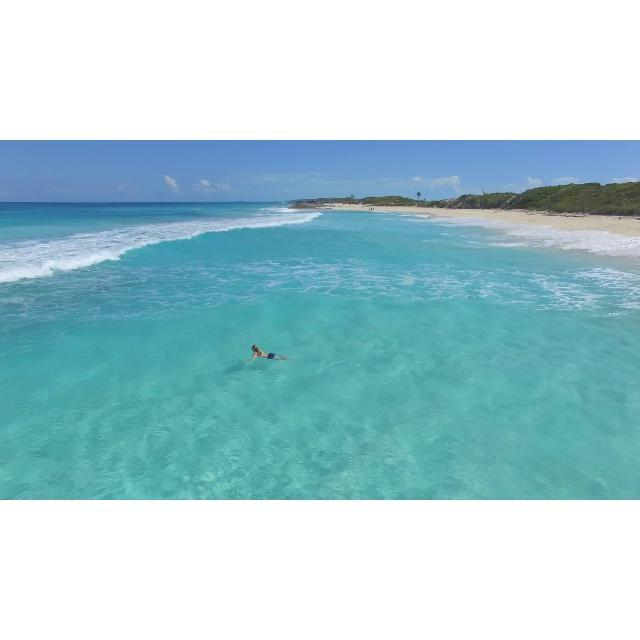human: (249, 342, 290, 363)
